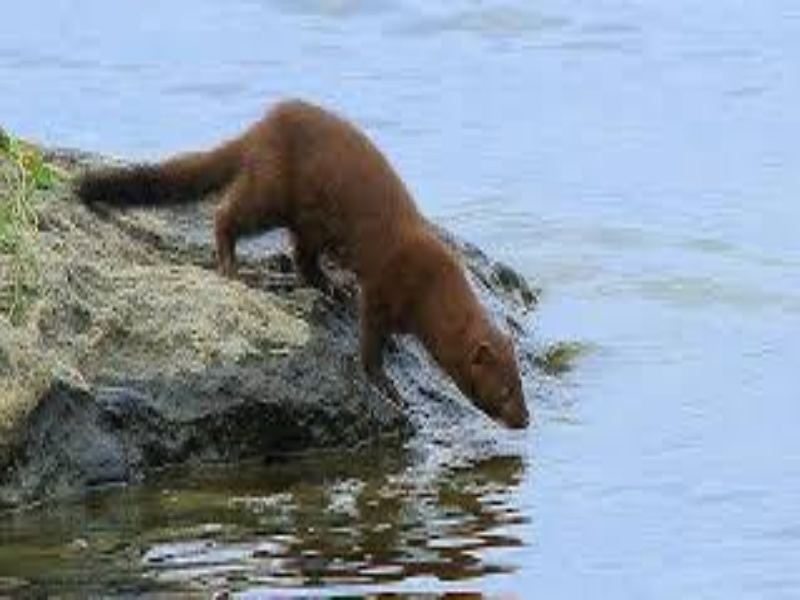minkish: (67, 93, 536, 435)
